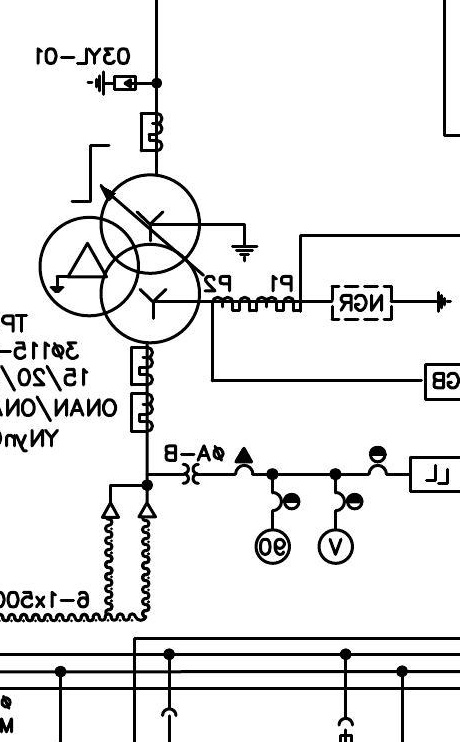11522_tx_ynyn0d1: (37, 172, 202, 346)
115_la: (86, 70, 138, 96)
NGR_future: (330, 284, 452, 322)
terminator_double: (100, 483, 158, 519)
v_m: (317, 527, 355, 566)
